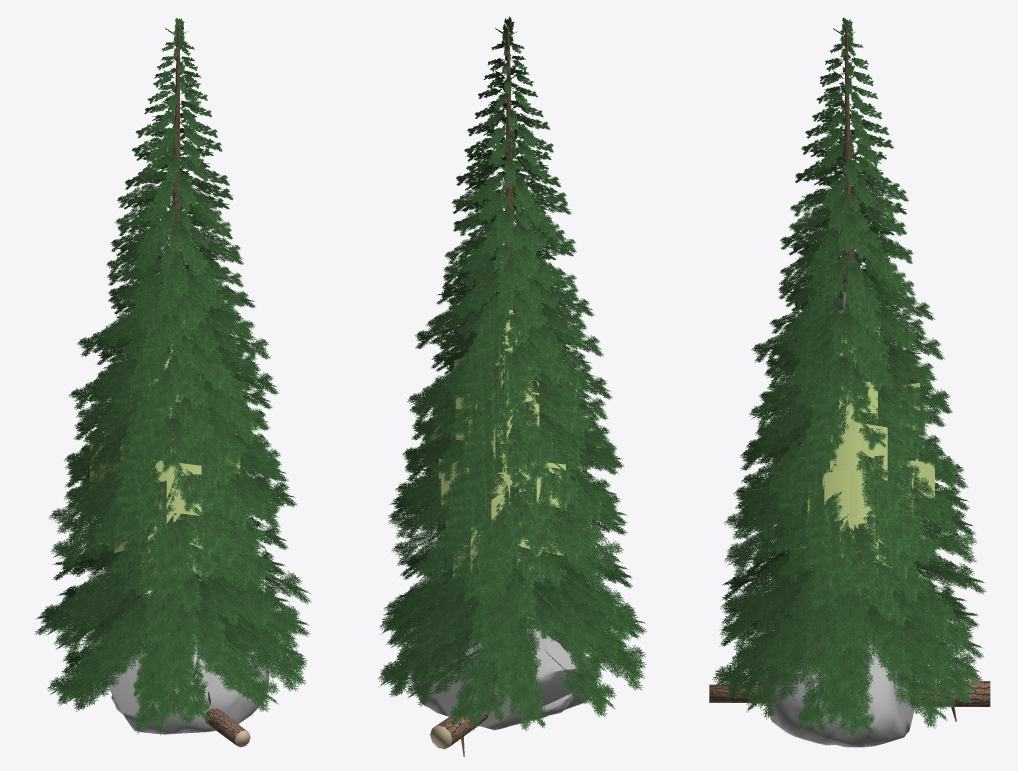
Rendered from ForestProps.fbx.
3 views of the same model, side by side, from view 1: azimuth 30°, elevation 25°; view 2: azimuth 150°, elevation 25°; view 3: azimuth 270°, elevation 25° (orthographic).
Visible parts, largest first — view 1: Fir_2, Fir_1, Fir_0, GBoulder_2, Aspen_1, Log_0, Aspen_0; view 2: Fir_2, Fir_1, Fir_0, GBoulder_2, Aspen_1, Aspen_0, Log_0; view 3: Fir_2, Fir_1, Fir_0, GBoulder_2, Aspen_1, Log_0.
Part boxes in pixels (box(x1,y1,x2,y2)): Fir_2: box(34, 18, 311, 726); Fir_1: box(41, 134, 307, 735); Fir_0: box(61, 261, 269, 724); GBoulder_2: box(92, 633, 269, 734); Aspen_1: box(90, 303, 250, 552); Log_0: box(93, 634, 250, 747); Aspen_0: box(113, 404, 240, 578); Fir_2: box(378, 16, 646, 715); Fir_1: box(381, 130, 647, 730); Fir_0: box(406, 249, 610, 730); GBoulder_2: box(410, 617, 597, 730); Aspen_1: box(426, 303, 590, 546); Aspen_0: box(449, 450, 570, 577); Log_0: box(430, 699, 489, 756); Fir_2: box(712, 17, 986, 726); Fir_1: box(716, 129, 983, 734); Fir_0: box(737, 250, 959, 738); GBoulder_2: box(767, 638, 914, 747); Aspen_1: box(773, 309, 934, 567); Log_0: box(709, 681, 990, 721).
Size of what is drawn, in the model's own units: 10.03 by 25.13 by 9.99.
